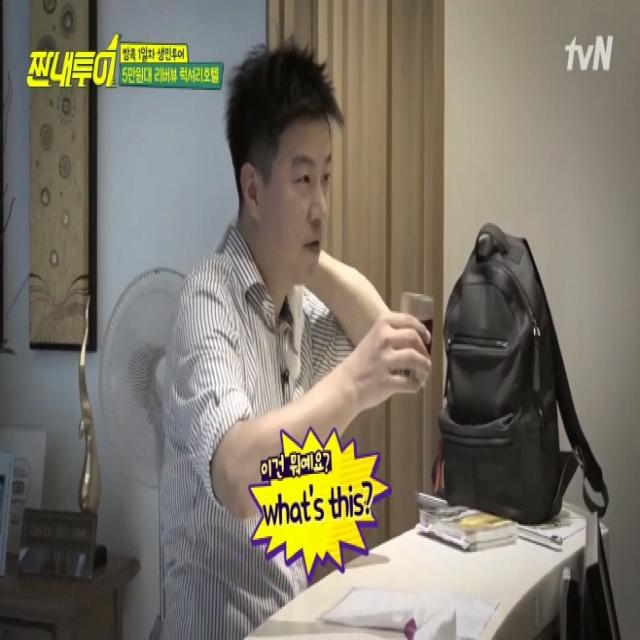backpack: (430, 198, 584, 528)
